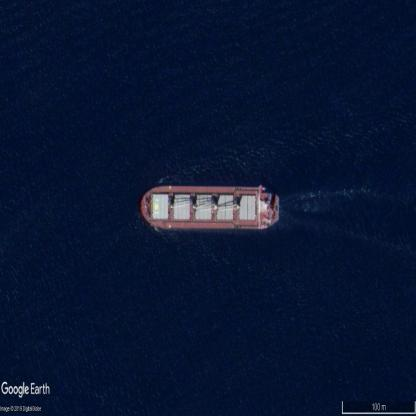ship: (140, 184, 280, 229)
